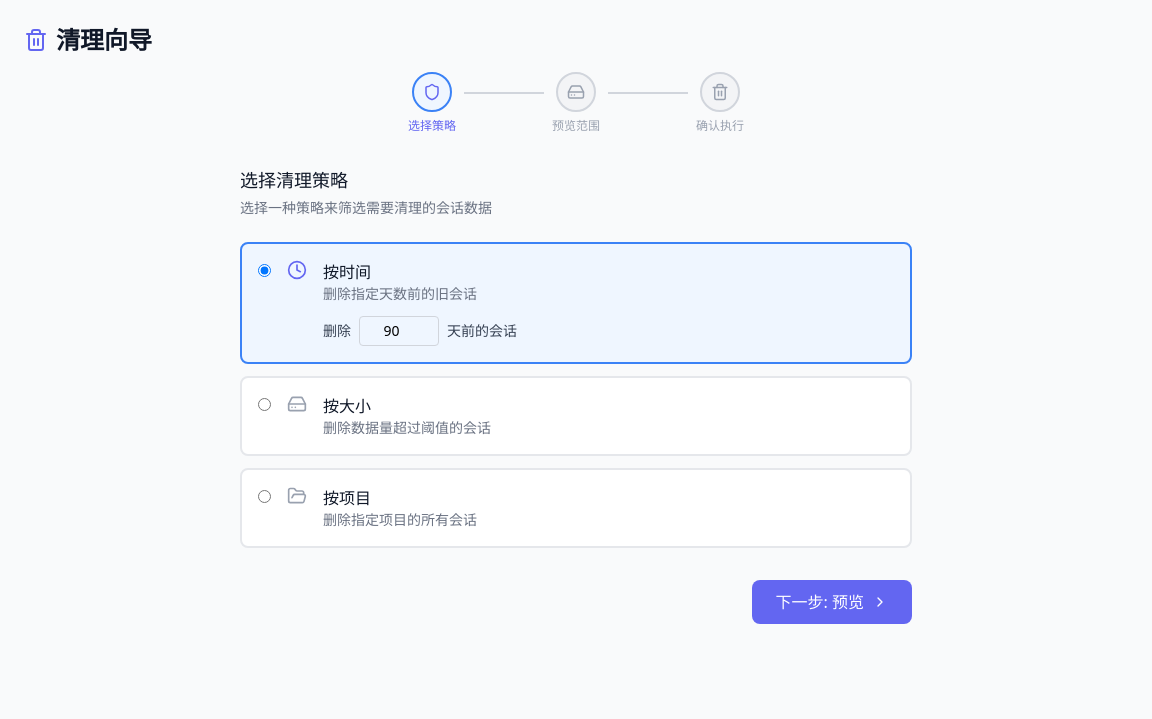
Scenario: Cleanup 预览不暴露数据形态（v1.3.5 呈现） › v2-mixed：后端返回 v2 / legacy 字段也不显示分列明细
Click the button "下一步: 预览": (832, 602) [752,580,912,624]
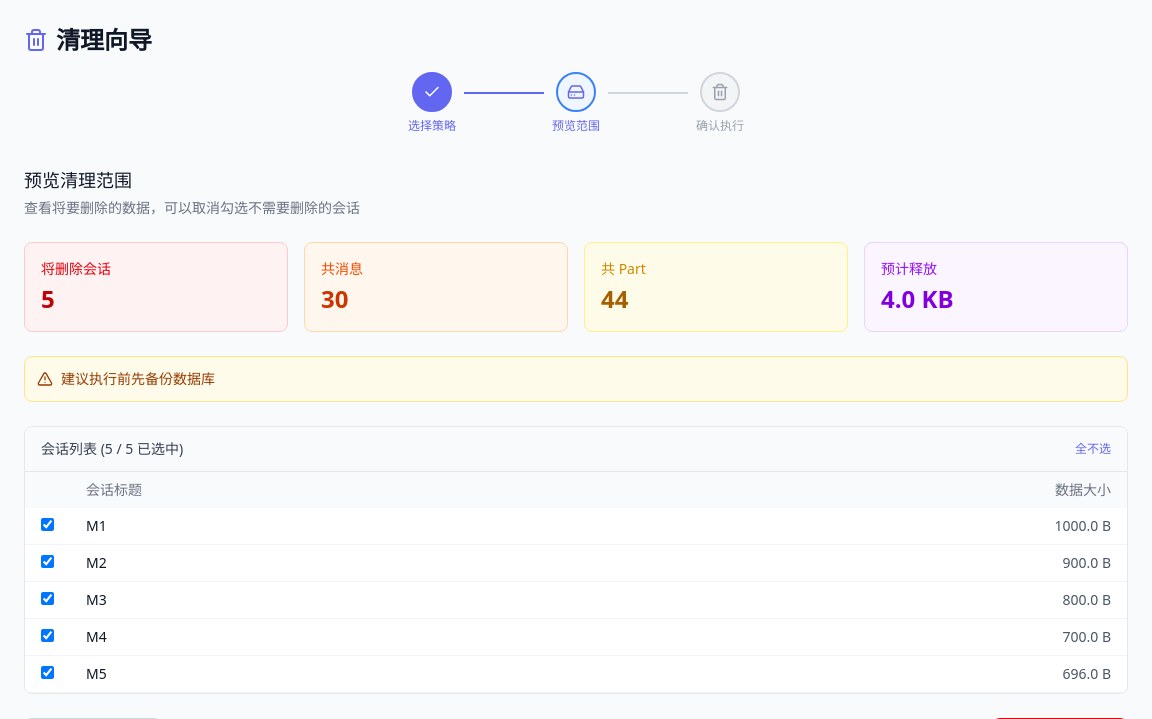
Expected: the heading "预览清理范围" is shown, [24,168,132,192]
Expected: the text "会话数" is gone
Expected: the text "将删除会话" is shown, [41,259,111,278]
